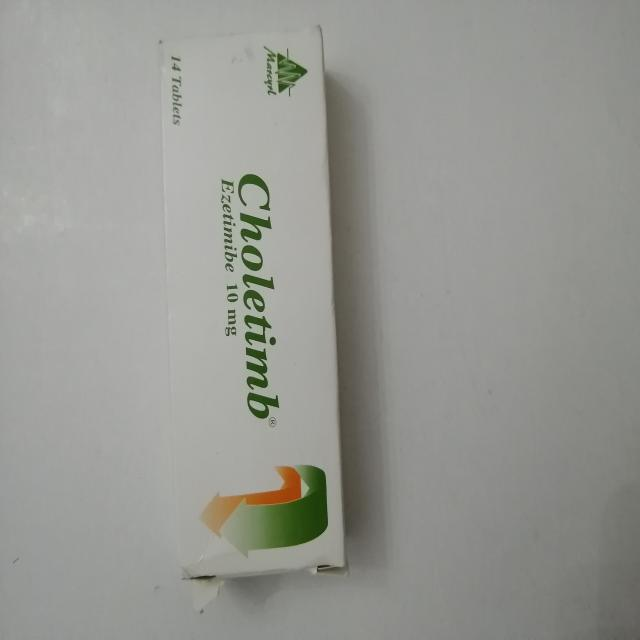Medicine Name: (238, 161, 285, 431)
